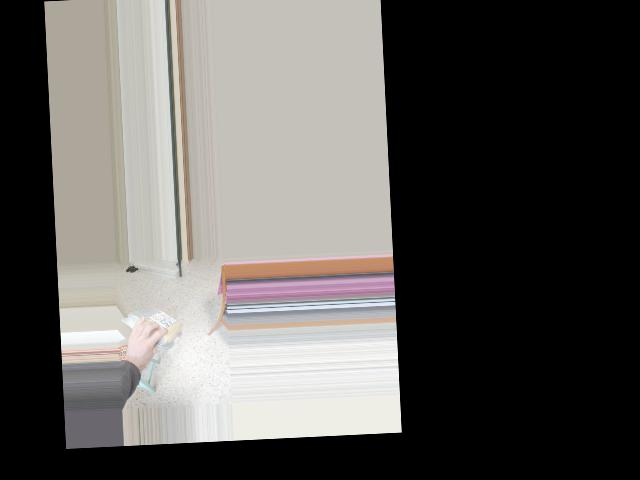cheese: (124, 311, 189, 341)
